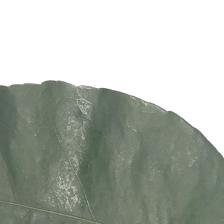healthy: (0, 86, 224, 224)
